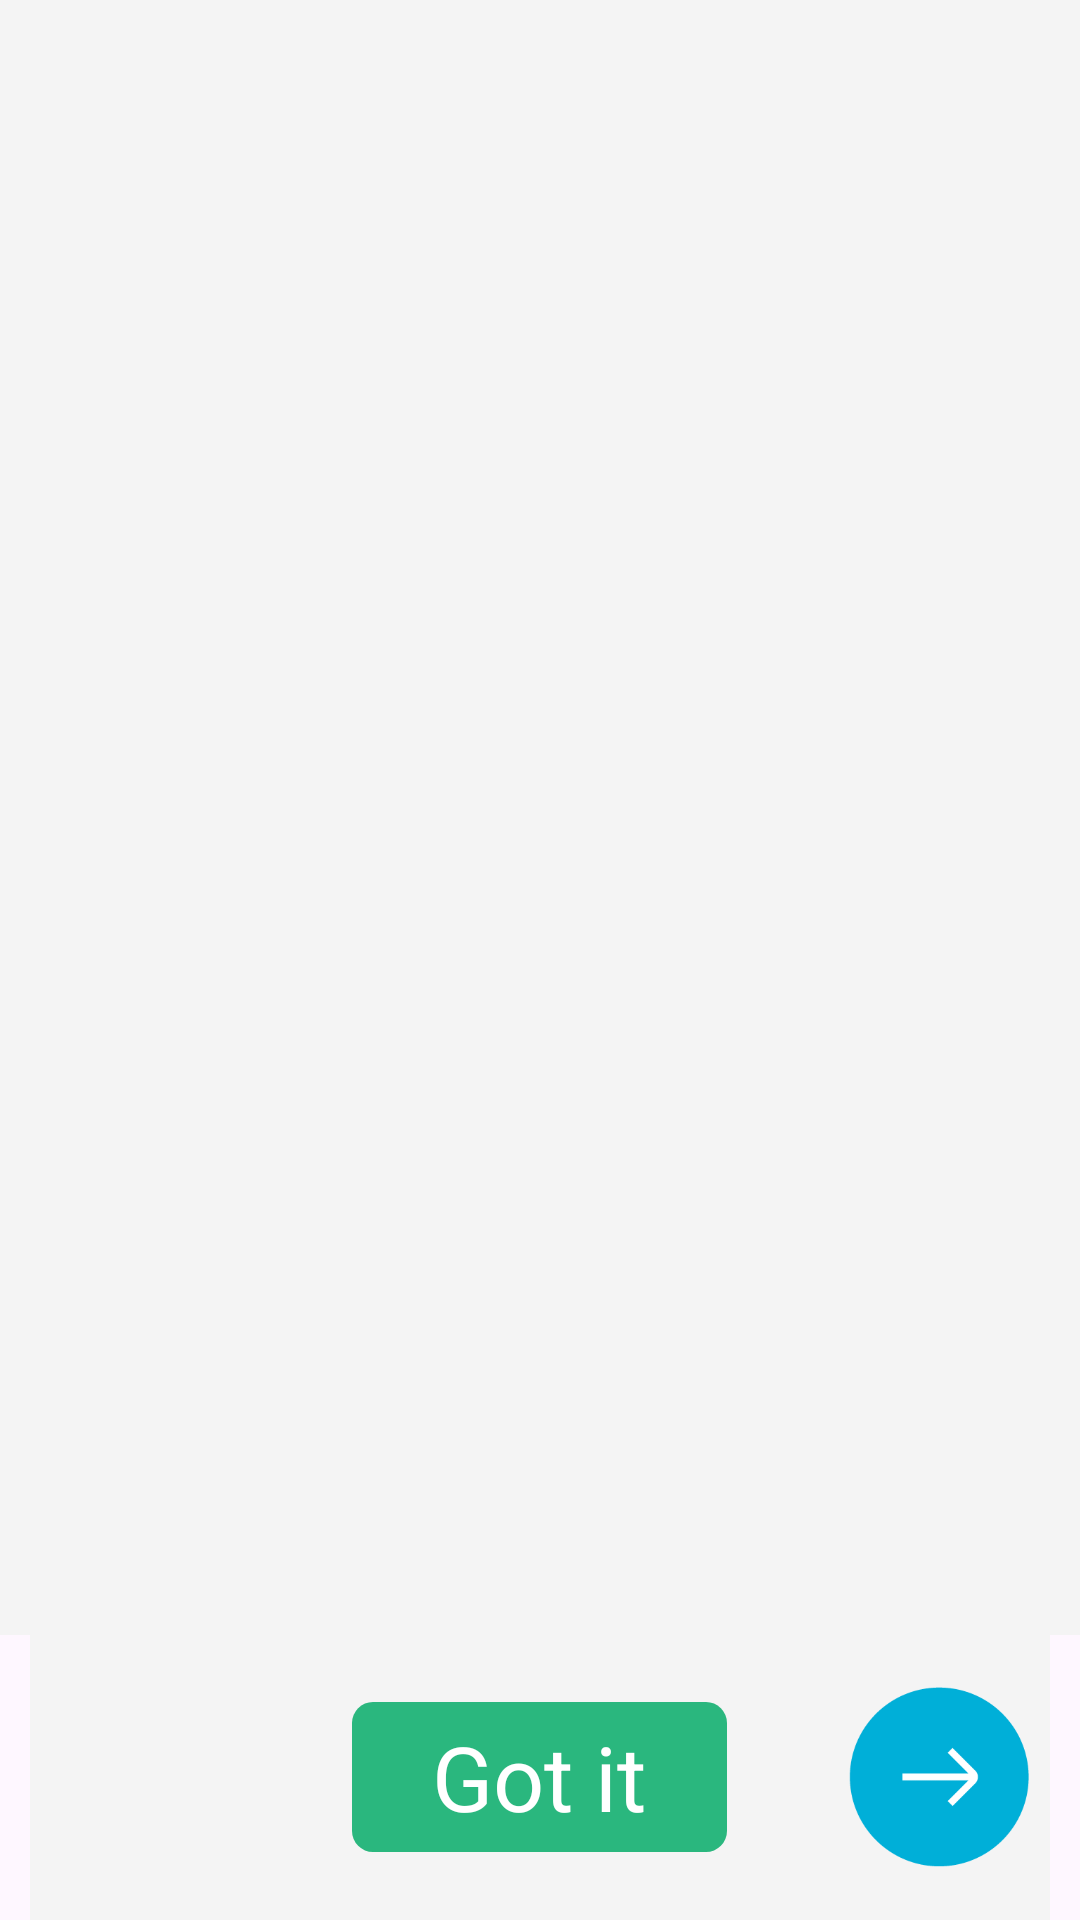

Where to tap for icons on this 1080px×1920px app screen, as (x=x, y=y):
first arrow: (x=939, y=1777)
